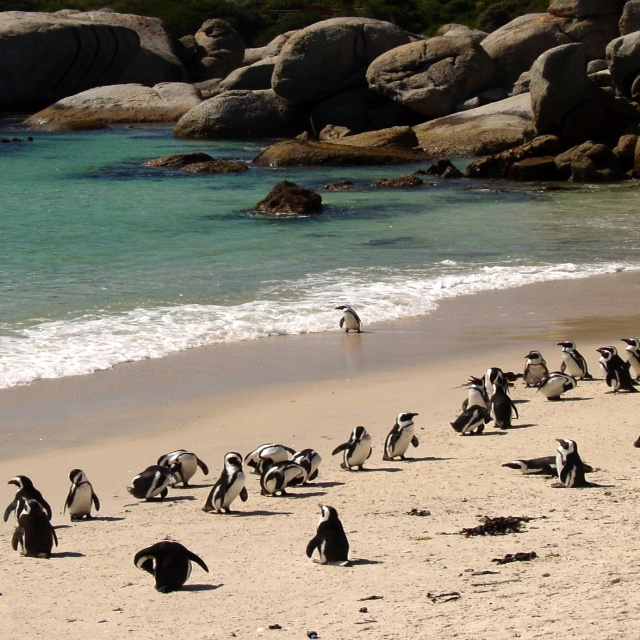Penguin: (134, 535, 208, 593), (305, 502, 356, 569), (12, 492, 58, 562), (199, 451, 250, 513), (0, 473, 48, 528), (65, 467, 107, 524), (332, 422, 375, 476), (159, 447, 215, 488), (554, 436, 599, 486), (126, 462, 179, 502), (594, 346, 639, 392), (502, 455, 594, 475), (384, 412, 422, 460), (260, 459, 309, 496), (241, 442, 295, 471), (451, 404, 497, 436), (488, 381, 519, 428), (289, 447, 326, 482), (559, 344, 594, 380), (537, 370, 577, 401), (520, 350, 548, 385), (479, 365, 506, 400), (467, 378, 494, 410), (334, 302, 363, 331), (621, 337, 639, 380)
